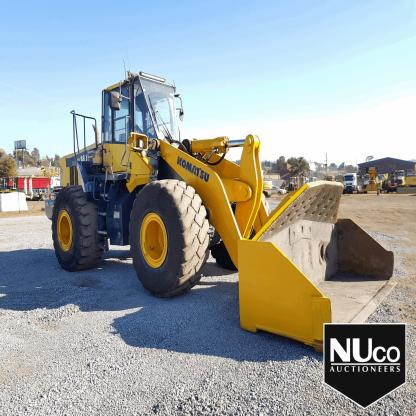bull_dozer/loader/grader: (43, 66, 404, 350)
